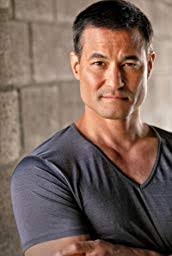asian_male: (65, 17, 172, 113)
